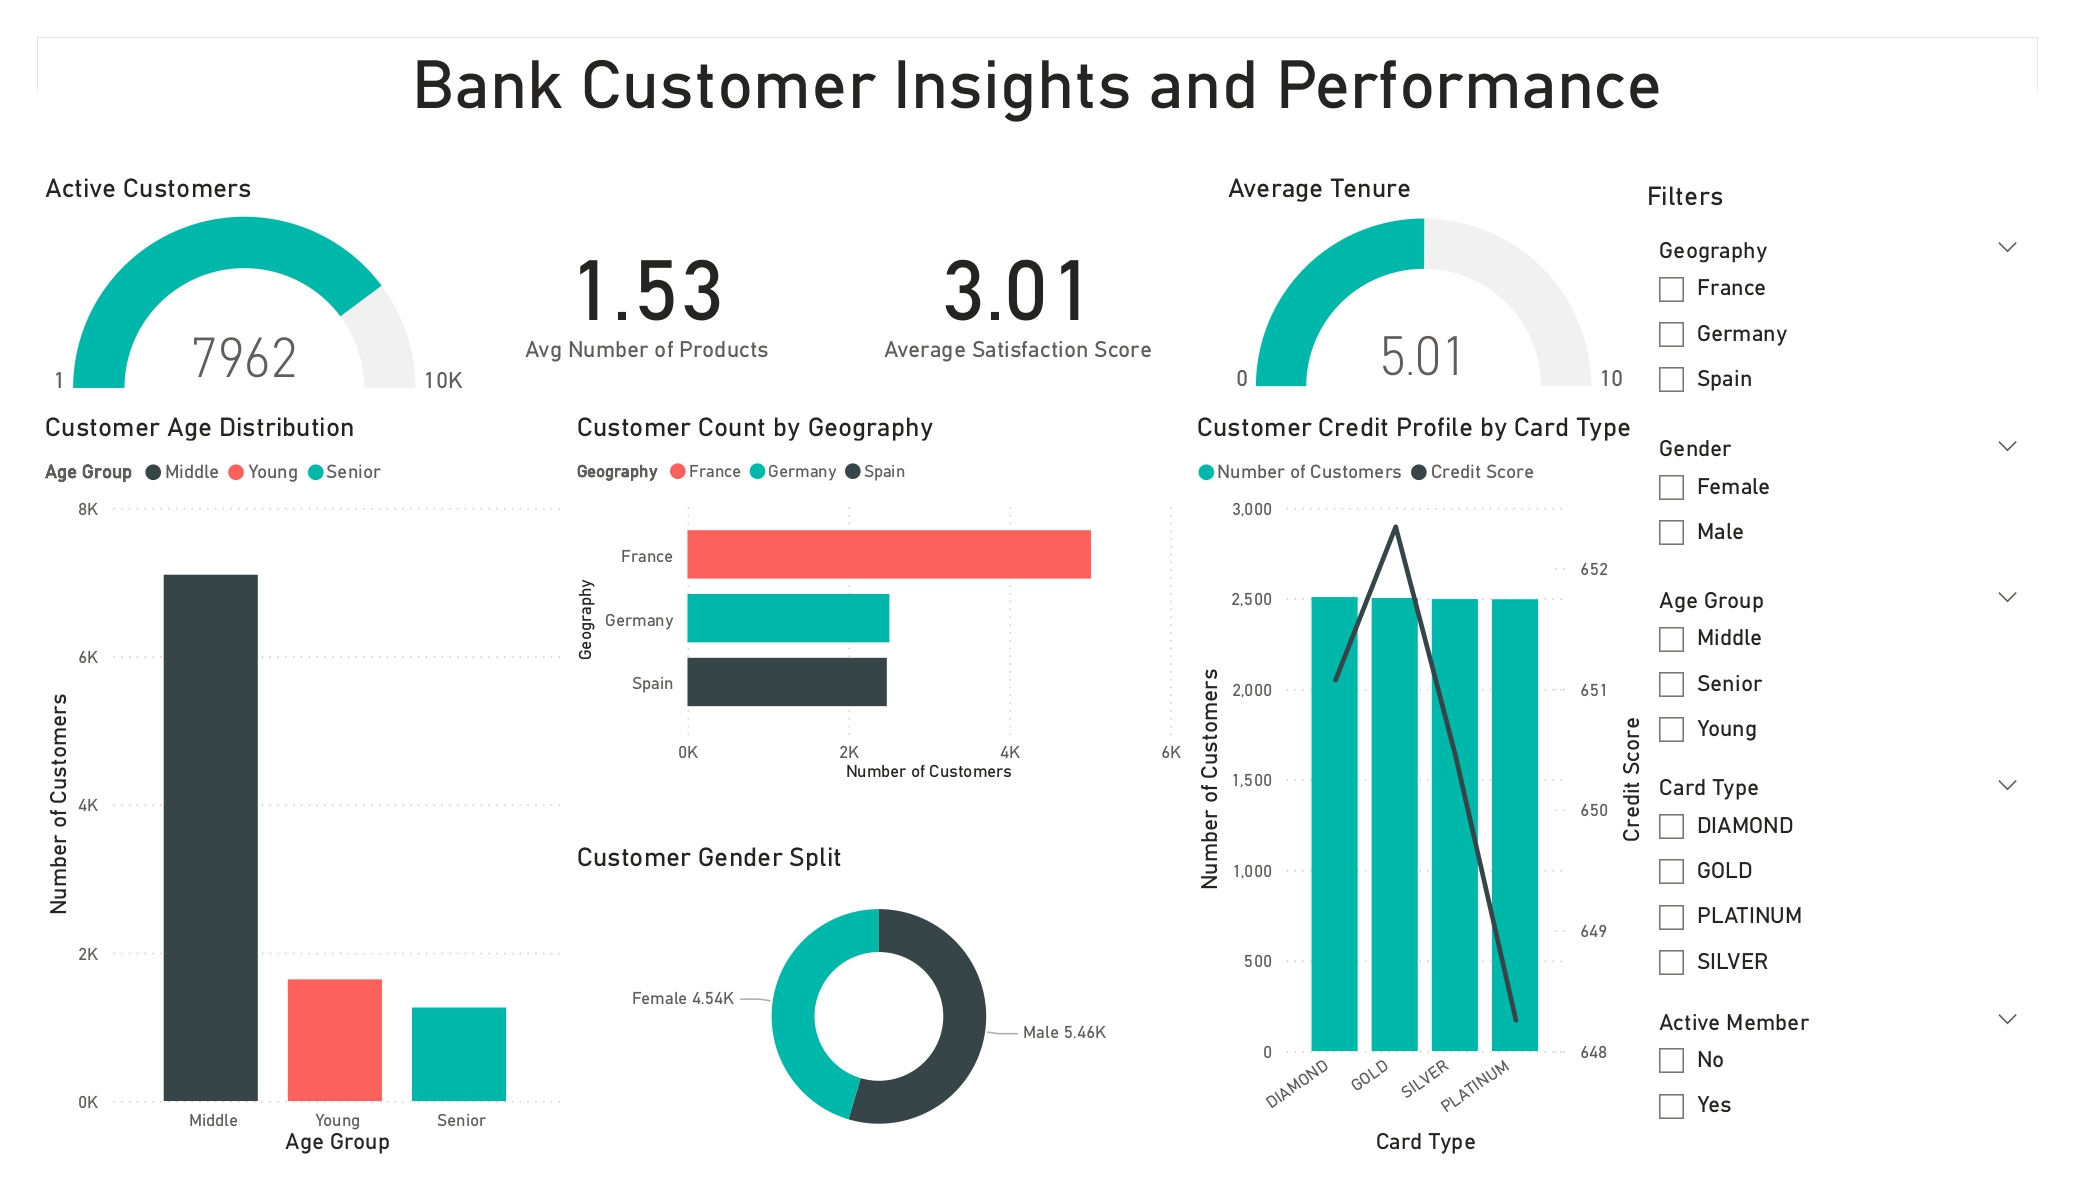

The dashboard page shown, as its layout file describes it:
{"tool":"powerbi","page":{"name":"Bank Customer Insights & Performance","canvas":[1280,720],"ordinal":1},"visuals":[{"type":"gauge","title":"Active Customers","fields":{"Y":["churn_dataset.Active_Customers"],"MinValue":["Min(churn_dataset.CustomerID)"],"MaxValue":["Max(churn_dataset.CustomerID)"]},"box":[0,86.1,282.4,152.5],"z":0},{"type":"textbox","box":[0,0,1280.5,86.1],"z":1},{"type":"card","title":"Average Number of Products","fields":{"Values":["Avg(churn_dataset.NumOfProducts)"]},"box":[282.4,86.1,216,152.5],"z":2},{"type":"gauge","title":"Average Tenure","fields":{"Y":["Avg(churn_dataset.Tenure)"],"MinValue":["Min(churn_dataset.Tenure)"],"MaxValue":["Max(churn_dataset.Tenure)"]},"box":[756.7,86.1,268.2,152.5],"z":3},{"type":"card","fields":{"Values":["Avg(churn_dataset.Satisfaction_Score)"]},"box":[498.4,86.1,258.4,152.5],"z":4},{"type":"slicer","fields":{"Values":["churn_dataset.Geography"]},"box":[1024.9,122.8,255.5,127.1],"z":5},{"type":"slicer","fields":{"Values":["churn_dataset.Card_Type"]},"box":[1024.9,467.3,255.5,149.6],"z":6},{"type":"slicer","fields":{"Values":["churn_dataset.age_group"]},"box":[1024.9,347.3,255.5,120],"z":7},{"type":"slicer","fields":{"Values":["churn_dataset.Gender"]},"box":[1024.9,249.9,255.5,97.4],"z":8},{"type":"slicer","fields":{"Values":["churn_dataset.IsActiveMember - Copy"]},"box":[1024.9,616.9,255.5,103.1],"z":9},{"type":"barChart","title":"Customer Count by Geography","fields":{"Y":["CountNonNull(churn_dataset.CustomerID)"],"Category":["churn_dataset.Geography"],"Series":["churn_dataset.Geography"]},"box":[340.2,238.6,396.7,241.4],"z":10},{"type":"columnChart","title":"Customer Age Distribution","fields":{"Category":["churn_dataset.age_group"],"Y":["CountNonNull(churn_dataset.CustomerID)"],"Series":["churn_dataset.age_group"]},"box":[0,238.6,340.2,481.4],"z":11},{"type":"donutChart","title":"Customer Gender Split","fields":{"Category":["churn_dataset.Gender"],"Y":["CountNonNull(churn_dataset.CustomerID)"]},"box":[340.2,513.9,396.7,206.1],"z":12},{"type":"lineClusteredColumnComboChart","title":"Customer Credit Profile by Card Type","fields":{"Y":["CountNonNull(churn_dataset.CustomerID)"],"Y2":["Avg(churn_dataset.CreditScore)"],"Category":["churn_dataset.Card_Type"]},"box":[736.9,238.6,295.1,481.4],"z":13},{"type":"textbox","box":[1024.9,86.1,255.5,36.7],"z":14}]}

Visuals, with their boxes in screenshot pixels (x1, y1, x2, y2):
"Active Customers" gauge: {"left": 38, "top": 172, "right": 479, "bottom": 410}
textbox: {"left": 38, "top": 38, "right": 2038, "bottom": 172}
"Average Number of Products" card: {"left": 479, "top": 172, "right": 816, "bottom": 410}
"Average Tenure" gauge: {"left": 1220, "top": 172, "right": 1639, "bottom": 410}
card - Avg(churn_dataset.Satisfaction_Score): {"left": 816, "top": 172, "right": 1220, "bottom": 410}
slicer - churn_dataset.Geography: {"left": 1639, "top": 229, "right": 2038, "bottom": 428}
slicer - churn_dataset.Card_Type: {"left": 1639, "top": 768, "right": 2038, "bottom": 1001}
slicer - churn_dataset.age_group: {"left": 1639, "top": 580, "right": 2038, "bottom": 768}
slicer - churn_dataset.Gender: {"left": 1639, "top": 428, "right": 2038, "bottom": 580}
slicer - churn_dataset.IsActiveMember - Copy: {"left": 1639, "top": 1001, "right": 2038, "bottom": 1162}
"Customer Count by Geography" barChart: {"left": 569, "top": 410, "right": 1189, "bottom": 788}
"Customer Age Distribution" columnChart: {"left": 38, "top": 410, "right": 569, "bottom": 1162}
"Customer Gender Split" donutChart: {"left": 569, "top": 840, "right": 1189, "bottom": 1162}
"Customer Credit Profile by Card Type" lineClusteredColumnComboChart: {"left": 1189, "top": 410, "right": 1650, "bottom": 1162}
textbox: {"left": 1639, "top": 172, "right": 2038, "bottom": 229}
